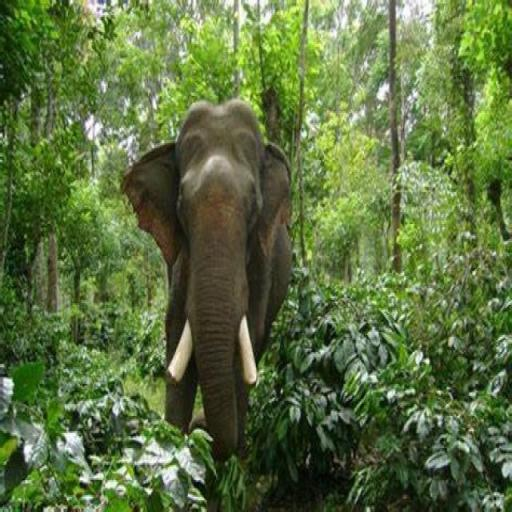Elephant: (118, 96, 293, 466)
